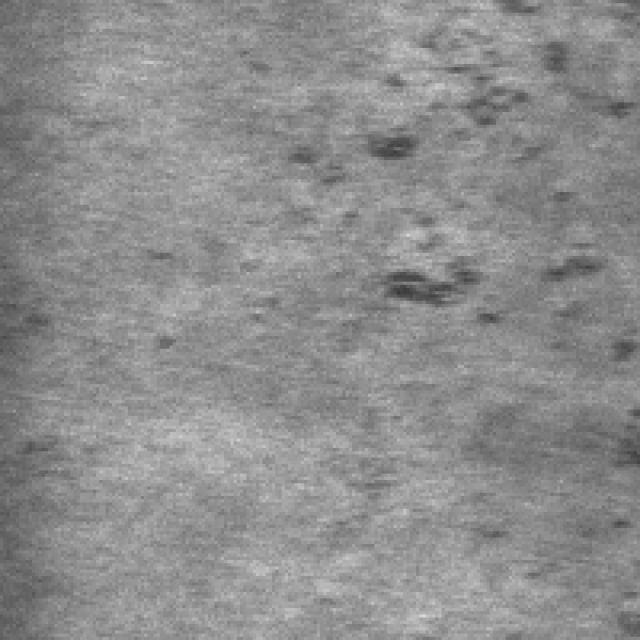rolled-in_scale: (384, 6, 630, 205), (384, 227, 637, 355)
